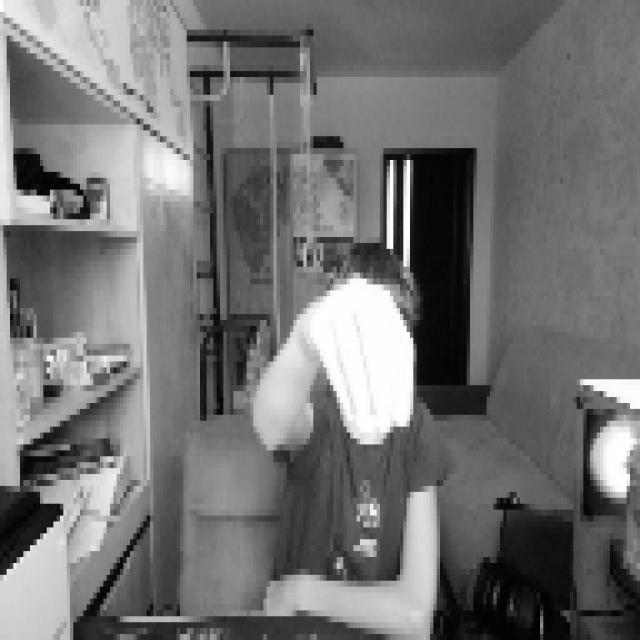left_click: (306, 272, 416, 438)
